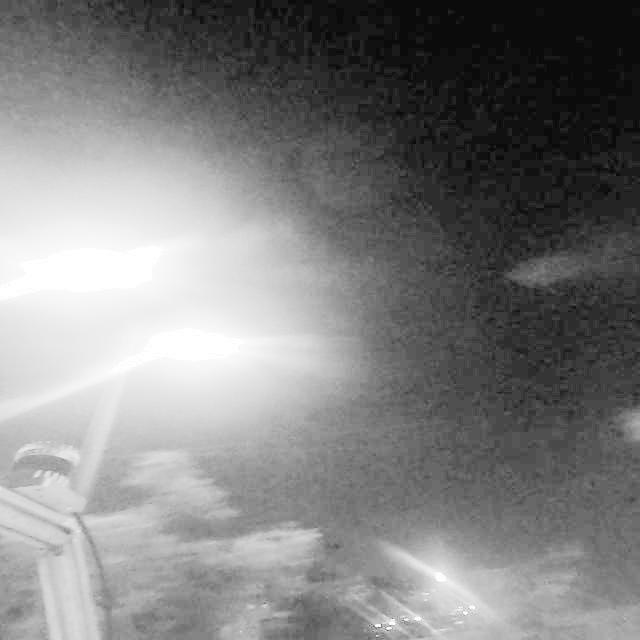Light: (33, 238, 156, 293), (146, 317, 235, 364)
